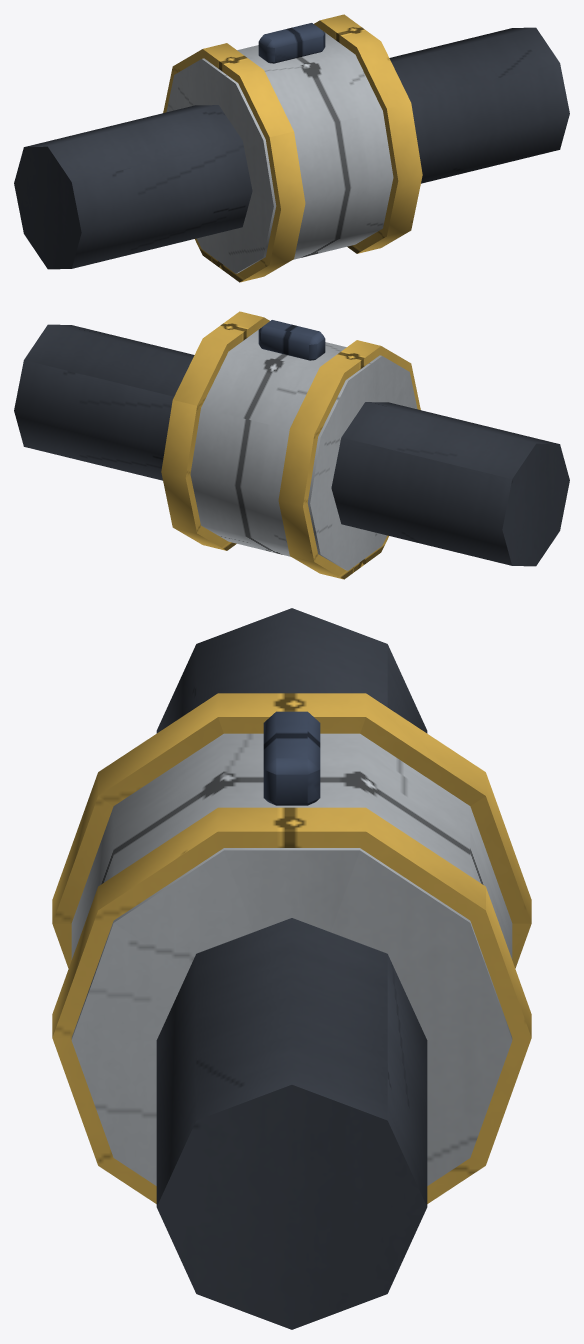
File: pressure_coupling.glb
The picture shows the model from 3 angles, top to bottom: view 1: azimuth 30°, elevation 25°; view 2: azimuth 150°, elevation 25°; view 3: azimuth 270°, elevation 25°; orthographic projection. The views are drawn at different scales.
Visible parts, largest first — view 1: DL016_PressureCoupling_rubber_dark, DL016_PressureCoupling_titanium, DL016_PressureCoupling_amber_accent, DL016_PressureCoupling_graphite_navy; view 2: DL016_PressureCoupling_rubber_dark, DL016_PressureCoupling_titanium, DL016_PressureCoupling_amber_accent, DL016_PressureCoupling_graphite_navy; view 3: DL016_PressureCoupling_rubber_dark, DL016_PressureCoupling_titanium, DL016_PressureCoupling_amber_accent, DL016_PressureCoupling_graphite_navy.
Part boxes in pixels (left/top/right/bottom): DL016_PressureCoupling_rubber_dark: left=14, top=27, right=569, bottom=269; DL016_PressureCoupling_titanium: left=166, top=32, right=393, bottom=273; DL016_PressureCoupling_amber_accent: left=163, top=14, right=422, bottom=282; DL016_PressureCoupling_graphite_navy: left=258, top=23, right=325, bottom=63; DL016_PressureCoupling_rubber_dark: left=14, top=324, right=569, bottom=566; DL016_PressureCoupling_titanium: left=190, top=329, right=417, bottom=570; DL016_PressureCoupling_amber_accent: left=161, top=311, right=420, bottom=579; DL016_PressureCoupling_graphite_navy: left=258, top=320, right=325, bottom=360; DL016_PressureCoupling_rubber_dark: left=156, top=608, right=427, bottom=1329; DL016_PressureCoupling_titanium: left=71, top=733, right=512, bottom=1185; DL016_PressureCoupling_amber_accent: left=52, top=693, right=531, bottom=1203; DL016_PressureCoupling_graphite_navy: left=263, top=711, right=320, bottom=805.
Bounding box in the file's own units: 1 × 0.4311 × 0.425.
Materials: 4 (4 with a texture image).
